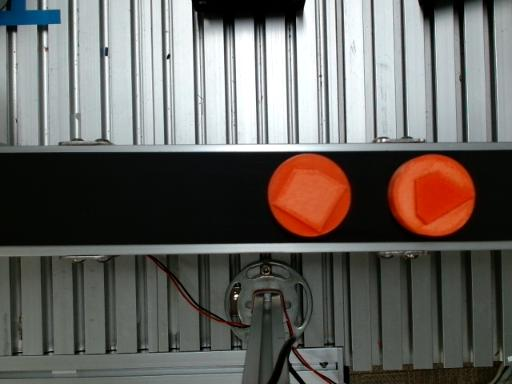Not_Square: (272, 167, 348, 233), (413, 169, 474, 226)
Orange_Waper: (387, 154, 475, 237), (267, 154, 351, 237)
